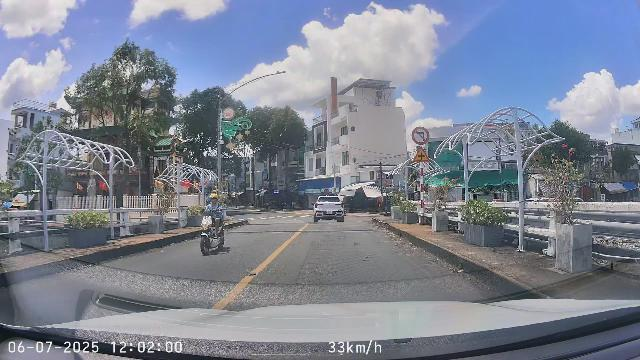123a-cam-re-trai: (412, 126, 429, 145)
